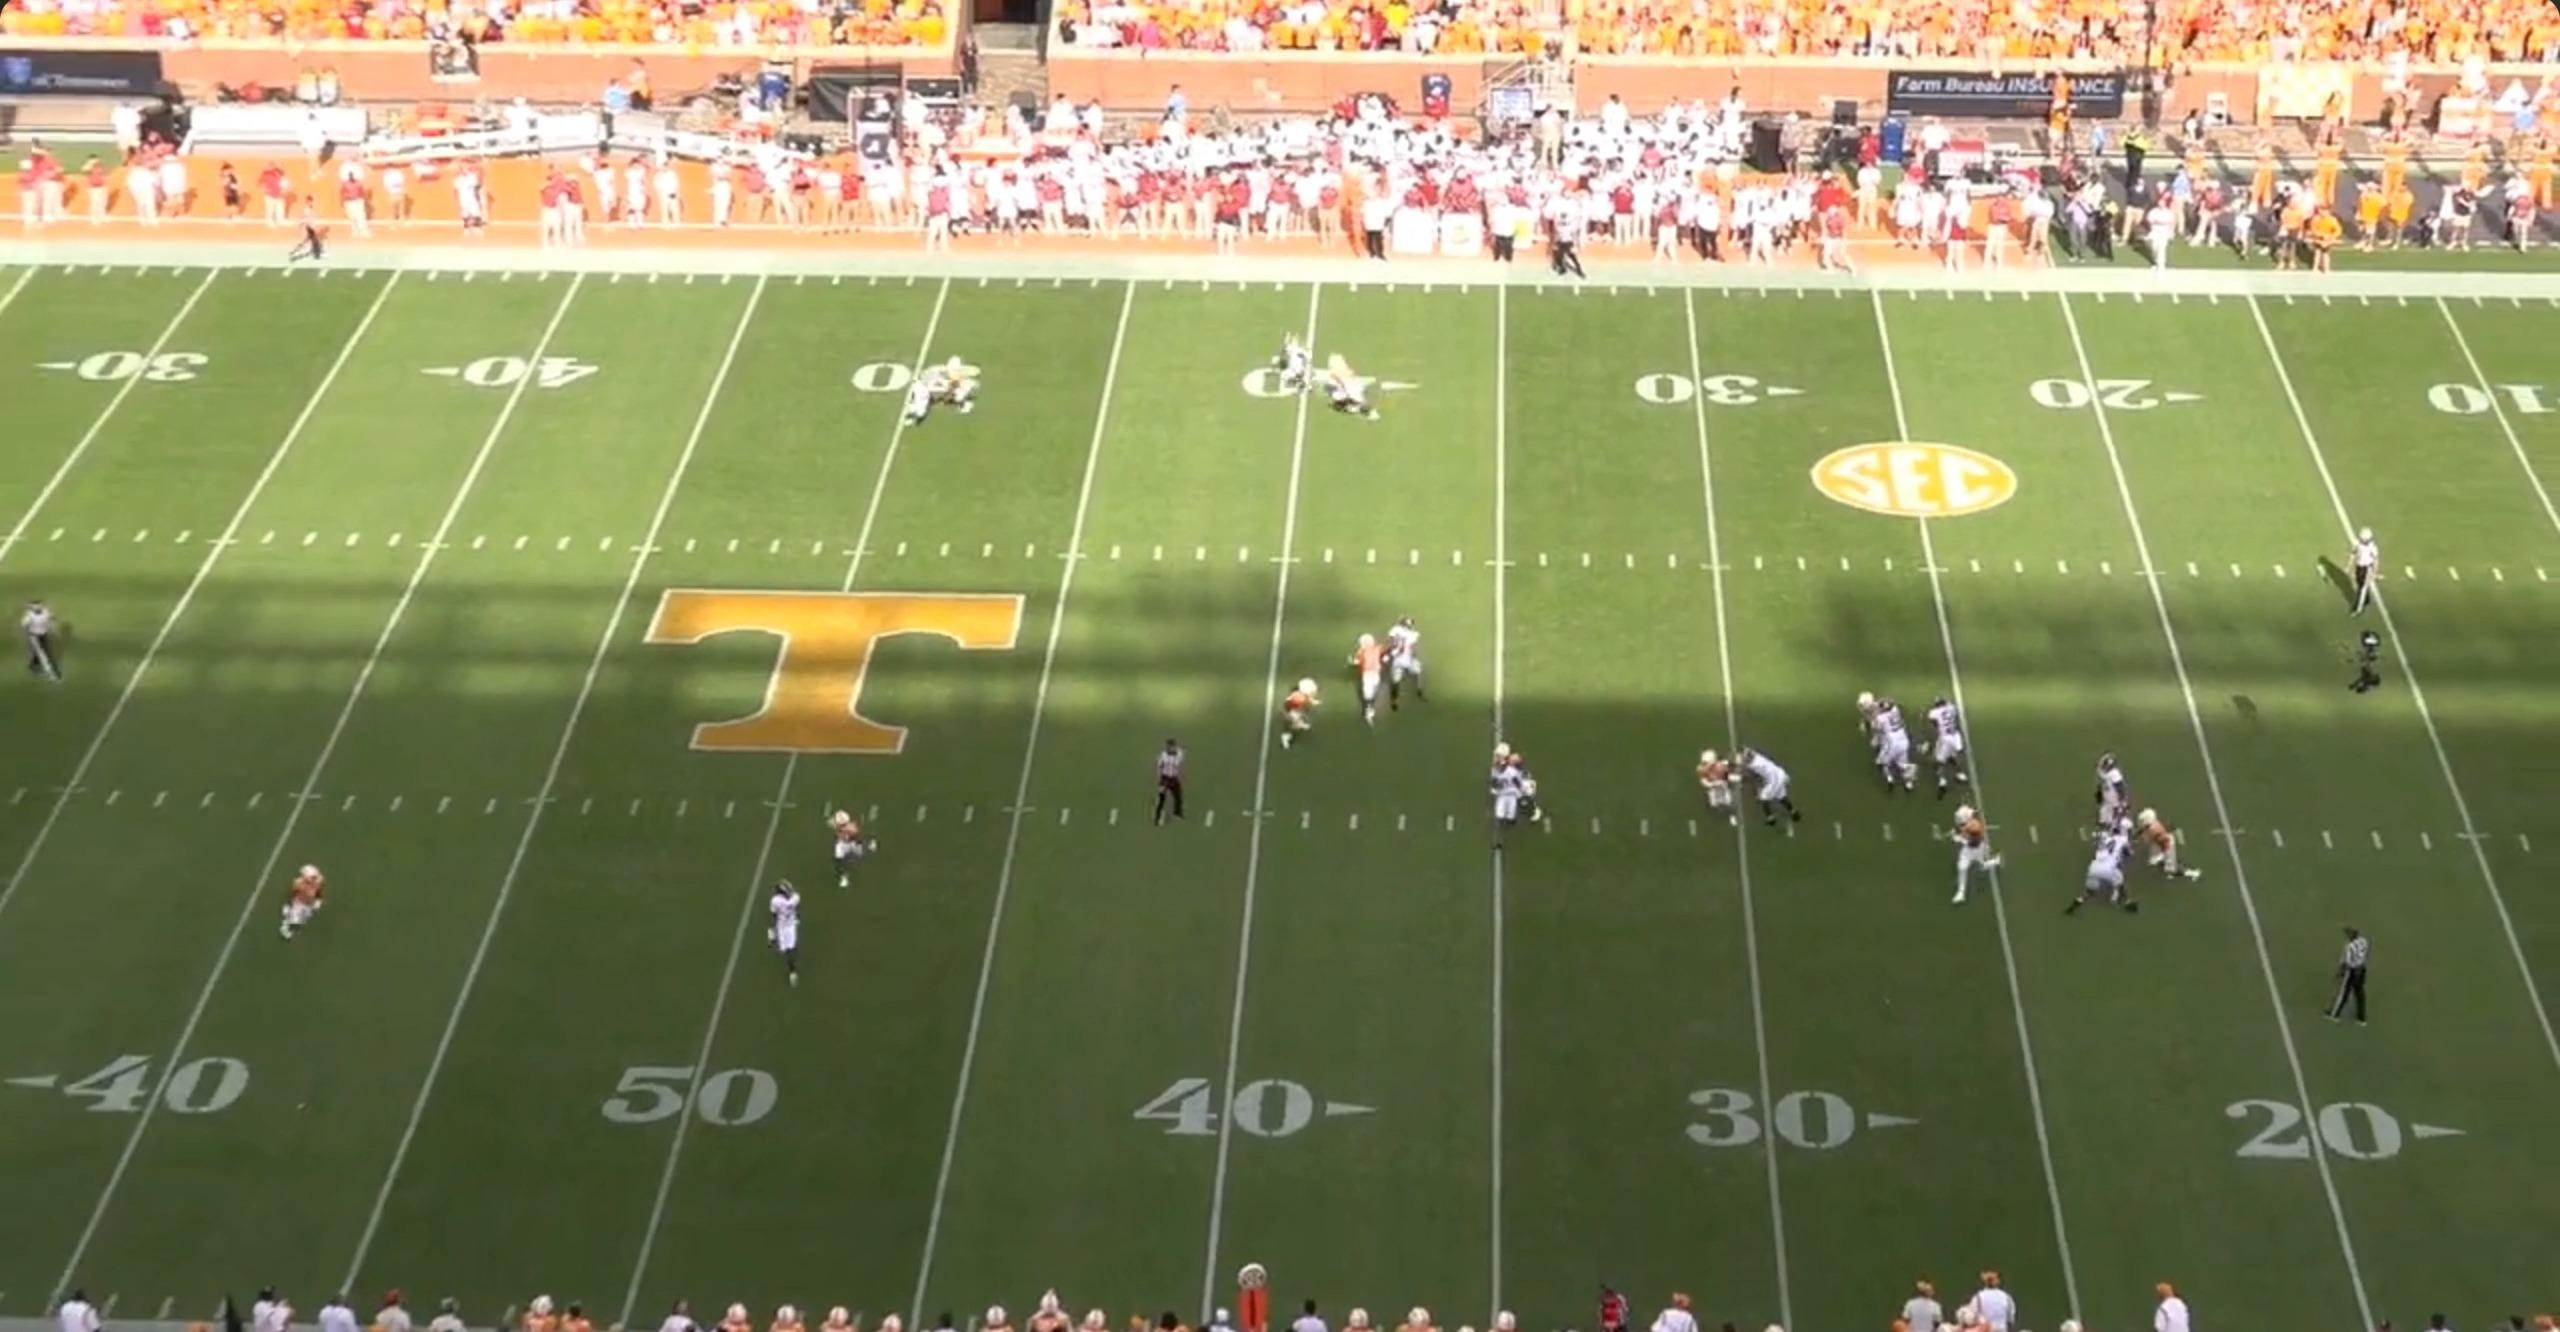player: (2064, 818, 2143, 918), (1737, 745, 1815, 833), (1948, 799, 2009, 905), (2136, 806, 2211, 888), (1921, 695, 1979, 800), (1474, 759, 1536, 851), (762, 879, 810, 997), (1869, 695, 1924, 793), (1375, 612, 1429, 709), (265, 864, 324, 950), (824, 805, 877, 896), (1348, 633, 1394, 729), (2090, 752, 2139, 838), (1318, 355, 1377, 426), (1492, 742, 1543, 823), (1276, 676, 1326, 756), (1697, 748, 1745, 829), (1269, 332, 1315, 401), (901, 364, 948, 430), (937, 354, 980, 414), (1854, 689, 1887, 754), (2105, 802, 2138, 850)
ref: (2326, 923, 2375, 1029), (1144, 732, 1191, 828), (24, 600, 69, 690), (2344, 531, 2385, 623), (284, 200, 332, 268), (1544, 214, 1589, 286)
